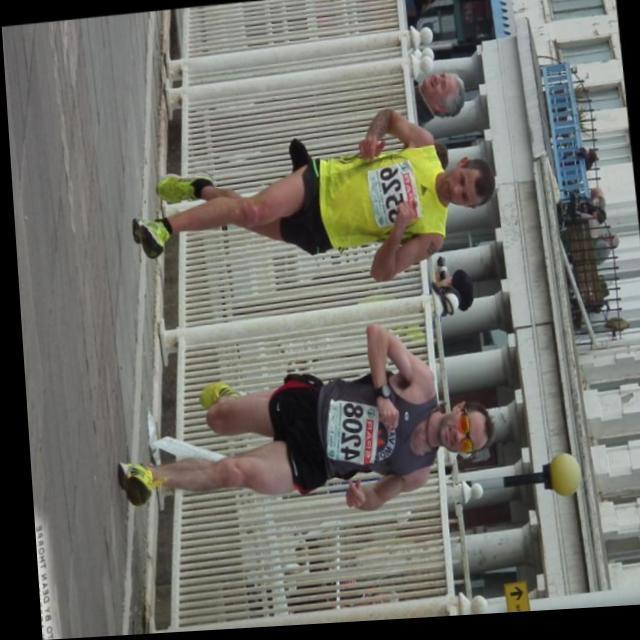dorsal: (312, 387, 390, 478), (358, 154, 427, 232)
